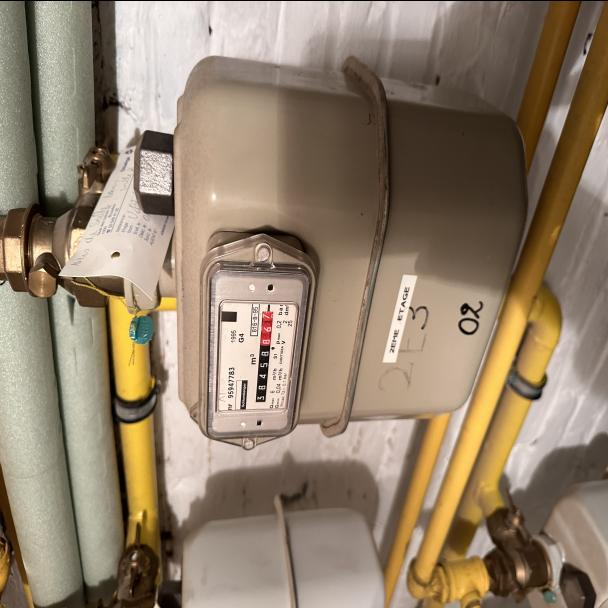3: (254, 391, 268, 401)
4: (255, 368, 269, 380)
5: (256, 357, 272, 369)
6: (260, 321, 274, 334)
7: (260, 306, 274, 322)
8: (253, 379, 268, 391), (256, 348, 272, 358), (258, 336, 272, 346)
cm: (260, 305, 276, 346)
counter: (254, 346, 272, 404)
